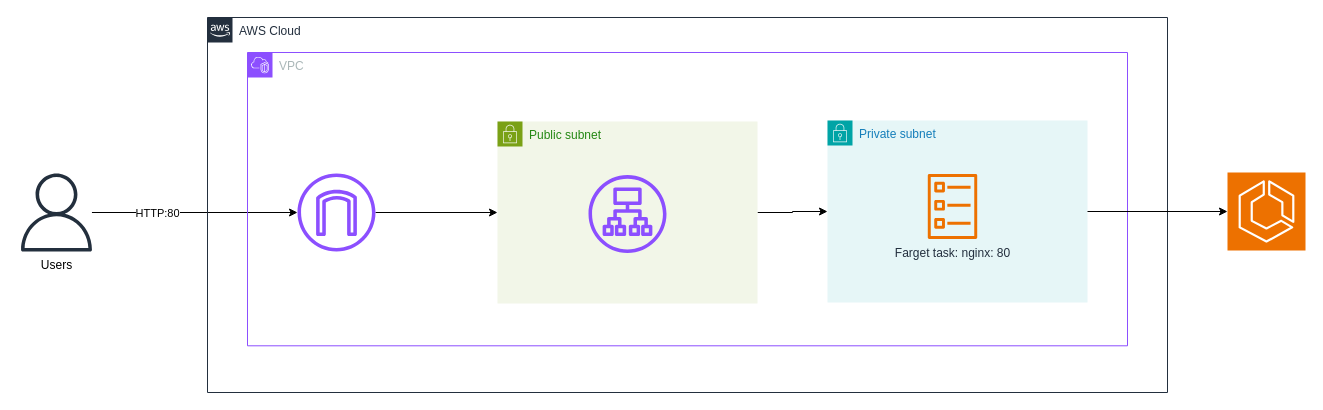
This 1323x410 diagram has some shape labels left out. Here are the shapes that lost their labels. From the top down, the centre of each, then its label:
At point 336,212: "Internet gateway".
At point 627,214: "Application Load Balancer".
At point 1266,211: "ECS Cluster".
